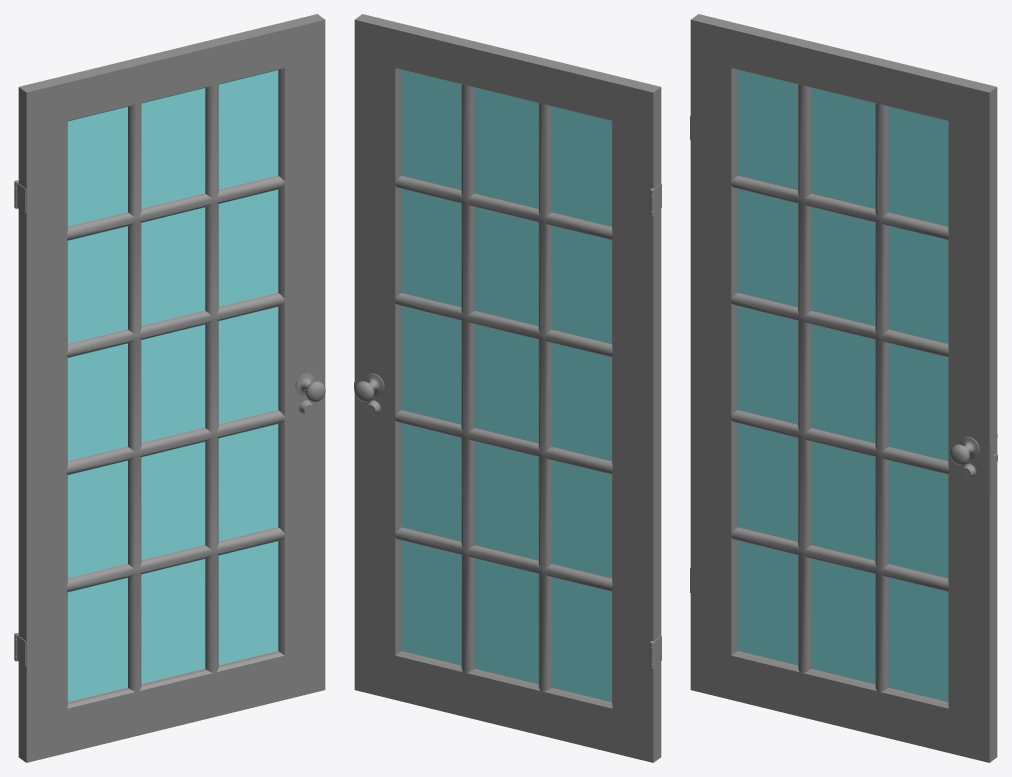
The model's file is Door_mesh_multidirectional_B_R.FBX.
3 views of the same model, side by side, from view 1: azimuth 30°, elevation 25°; view 2: azimuth 150°, elevation 25°; view 3: azimuth 330°, elevation 25° (orthographic).
Visible parts, largest first — view 1: Door_mesh_B_R, Windowglass_A; view 2: Door_mesh_B_R, Windowglass_A; view 3: Door_mesh_B_R, Windowglass_A.
Boxes of the visible parts, <box> form: Door_mesh_B_R: <box>14,14,325,762</box>; Windowglass_A: <box>67,70,278,701</box>; Door_mesh_B_R: <box>354,14,661,762</box>; Windowglass_A: <box>401,70,611,702</box>; Door_mesh_B_R: <box>690,14,997,762</box>; Windowglass_A: <box>737,70,948,701</box>.
Bounding box in the file's own units: 102 × 215 × 19.99.
